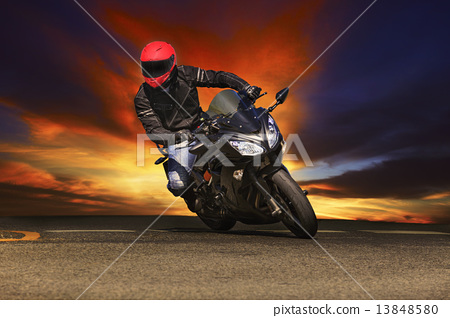helmet: (137, 42, 177, 81)
